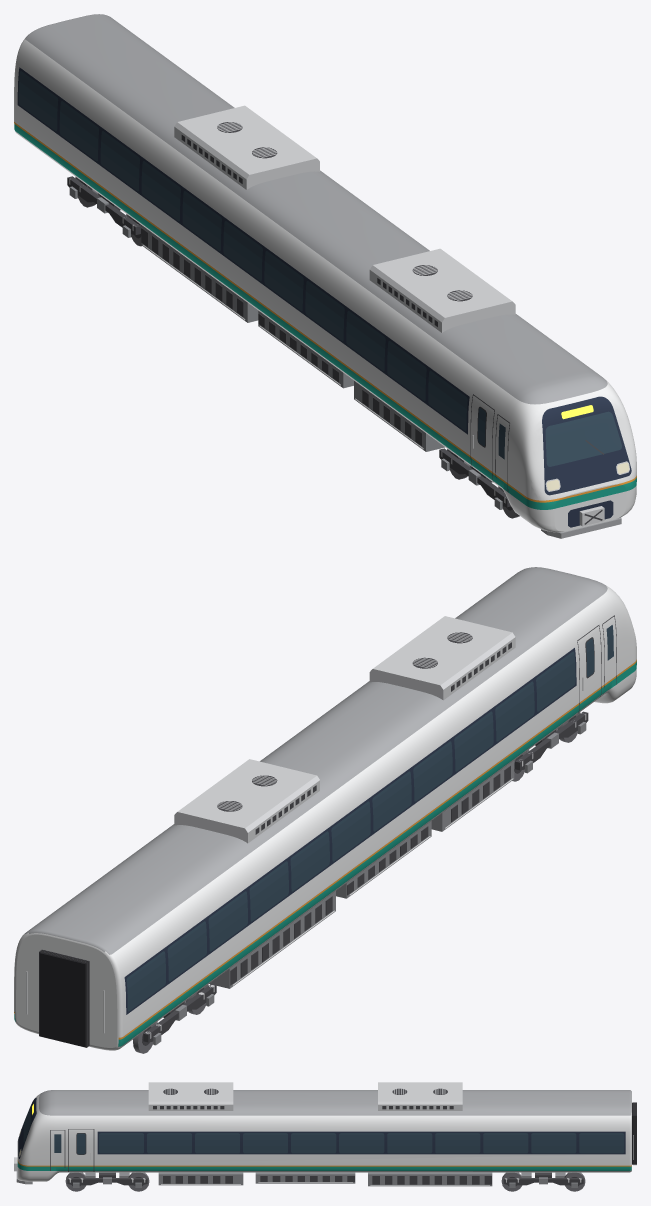
File: 376_close.fbx
3 renders of one model, top to bottom at view 1: azimuth 30°, elevation 25°; view 2: azimuth 150°, elevation 25°; view 3: azimuth 270°, elevation 25°, orthographic. The views are drawn at different scales.
Parts seen in each view (by area): view 1: 376_close; view 2: 376_close; view 3: 376_close.
Part boxes in pixels (box(x1,y1,x2,y2)): 376_close: box(14, 14, 636, 538); 376_close: box(14, 567, 636, 1053); 376_close: box(14, 1082, 636, 1191).
Size of the model in its own units: 3.01 by 4.03 by 25.
